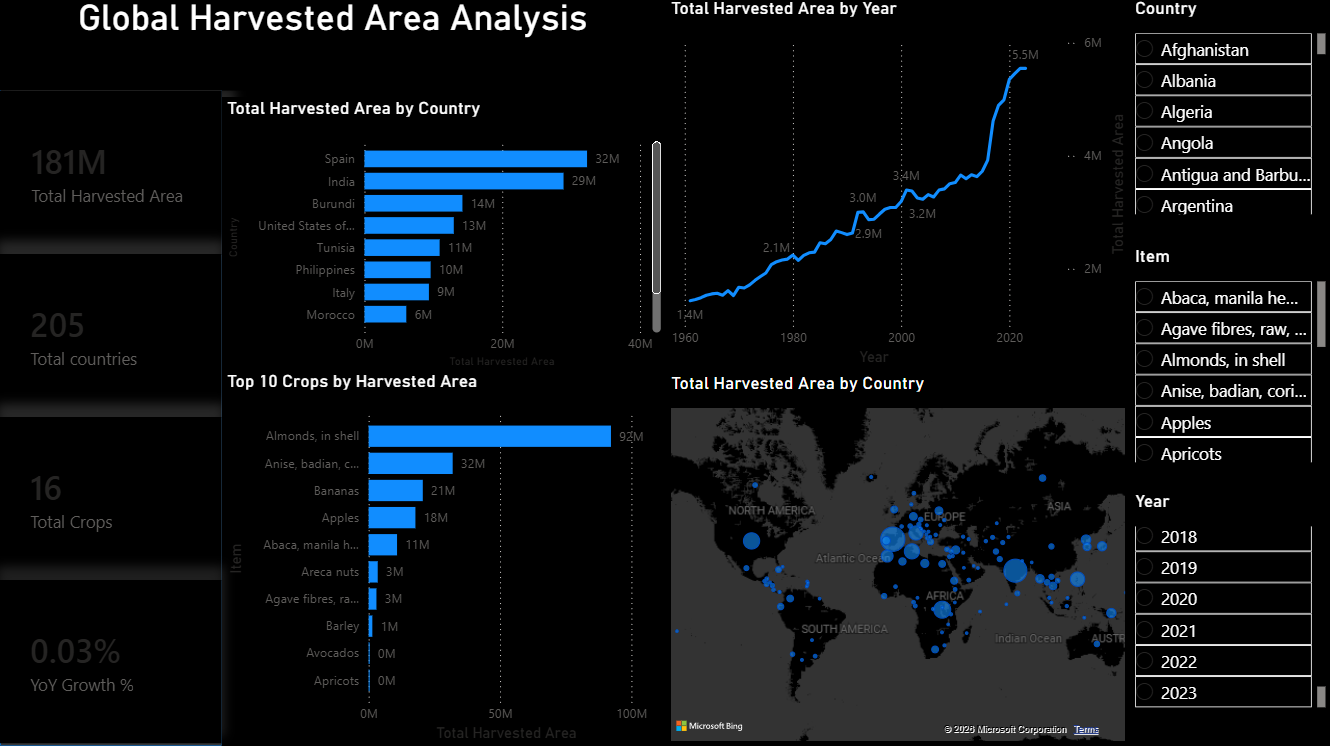

What the dashboard file says about the page in this screenshot:
{"tool":"powerbi","page":{"name":"Page 1","canvas":[1280,720],"ordinal":0},"visuals":[{"type":"shape","box":[0,0,213.5,720.3],"z":0},{"type":"cardVisual","fields":{"Data":["Clean_Data.total Harvested Area"]},"box":[0,90.4,213.5,156.8],"z":1000},{"type":"cardVisual","fields":{"Data":["Clean_Data.Total countries"]},"box":[0,247.2,213.5,156.8],"z":2000},{"type":"lineChart","fields":{"Category":["Clean_Data.Year"],"Y2":["Clean_Data.Total Harvested Area"]},"box":[640.5,0,446.2,358.7],"z":3000},{"type":"cardVisual","fields":{"Data":["Clean_Data.Total Crops"]},"box":[0,403.9,213.5,156.8],"z":4000},{"type":"clusteredBarChart","fields":{"Category":["Clean_Data.Country"],"Y":["Clean_Data.Total Harvested Area"]},"box":[213.5,96.2,427,264.5],"z":5000},{"type":"clusteredBarChart","title":"Top 10 Crops by Harvested Area","fields":{"Category":["Clean_Data.Item"],"Y":["Clean_Data.Total Harvested Area"]},"box":[213.5,358.7,427,361.6],"z":6000},{"type":"listSlicer","fields":{"Values":["Clean_Data.Year"]},"box":[1086.7,474.1,193.3,214.5],"z":7000},{"type":"listSlicer","fields":{"Values":["Clean_Data.Country"]},"box":[1086.7,0,193.3,214.5],"z":8000},{"type":"listSlicer","fields":{"Values":["Clean_Data.Item"]},"box":[1086.7,238.5,193.3,214.5],"z":9000},{"type":"map","fields":{"Category":["Clean_Data.Country"],"Size":["Clean_Data.Total Harvested Area"]},"box":[640.5,360.6,446.2,359.7],"z":10000},{"type":"cardVisual","fields":{"Data":["Clean_Data.YoY Growth %"]},"box":[0,560.7,213.5,156.8],"z":10001},{"type":"textbox","title":"Global Harvested Area Analysis\t","box":[0,0,640.5,90.4],"z":10002}]}

Visuals, with their boxes in screenshot pixels (x1, y1, x2, y2), scaled from the page's 1280x720 canvas onto the 1330x746 screenshot:
shape: box(0, 0, 222, 745)
cardVisual - Clean_Data.total Harvested Area: box(0, 94, 222, 256)
cardVisual - Clean_Data.Total countries: box(0, 256, 222, 419)
lineChart - Clean_Data.Year x Clean_Data.Total Harvested Area: box(666, 0, 1129, 372)
cardVisual - Clean_Data.Total Crops: box(0, 418, 222, 581)
clusteredBarChart - Clean_Data.Country x Clean_Data.Total Harvested Area: box(222, 100, 666, 374)
"Top 10 Crops by Harvested Area" clusteredBarChart: box(222, 372, 666, 745)
listSlicer - Clean_Data.Year: box(1129, 491, 1329, 713)
listSlicer - Clean_Data.Country: box(1129, 0, 1329, 222)
listSlicer - Clean_Data.Item: box(1129, 247, 1329, 469)
map - Clean_Data.Country x Clean_Data.Total Harvested Area: box(666, 374, 1129, 745)
cardVisual - Clean_Data.YoY Growth %: box(0, 581, 222, 743)
"Global Harvested Area Analysis	" textbox: box(0, 0, 666, 94)
